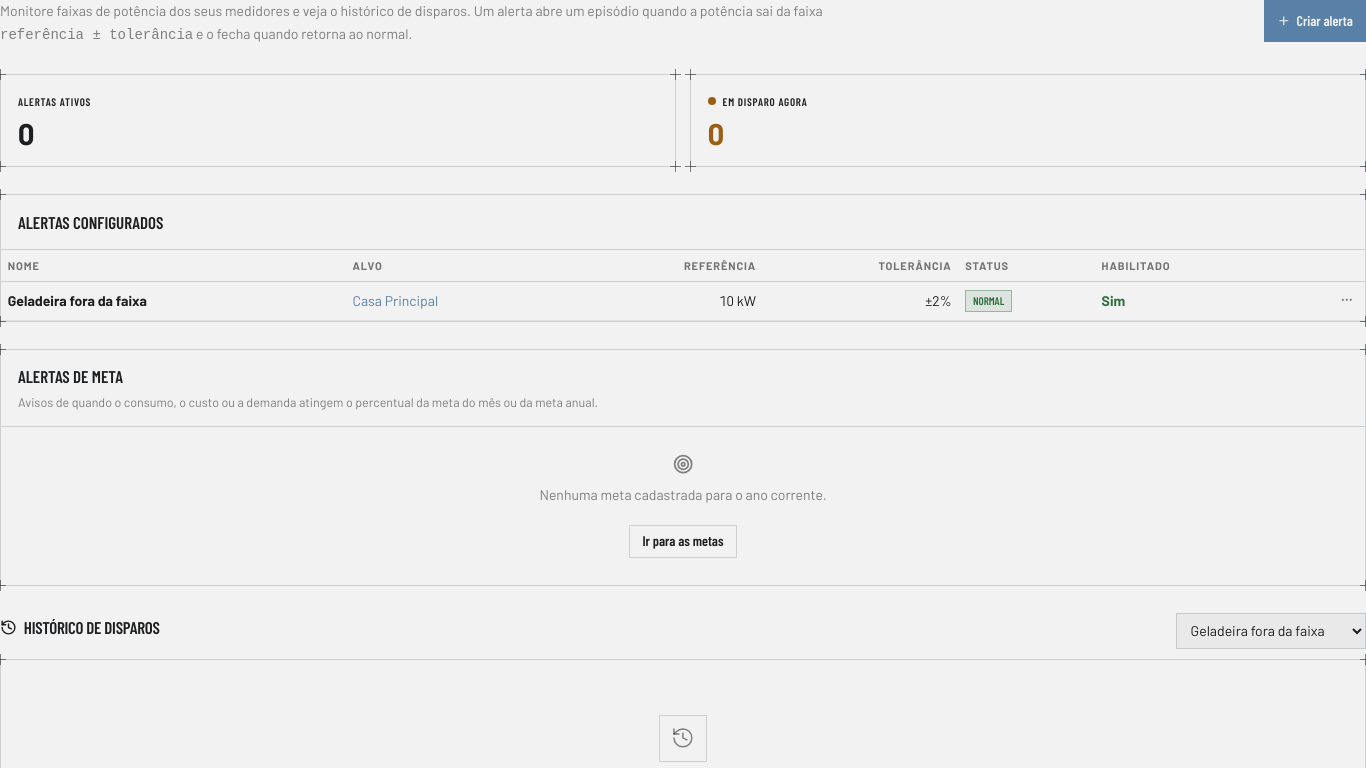
Test case: AlertsPage — editar alerta › abre o dialog de edição pré-preenchido a partir do menu ⋯ da linha
Click the button named "Opções do alerta Geladeira fora da faixa": x=1346, y=300 1334,288 -> 1358,312
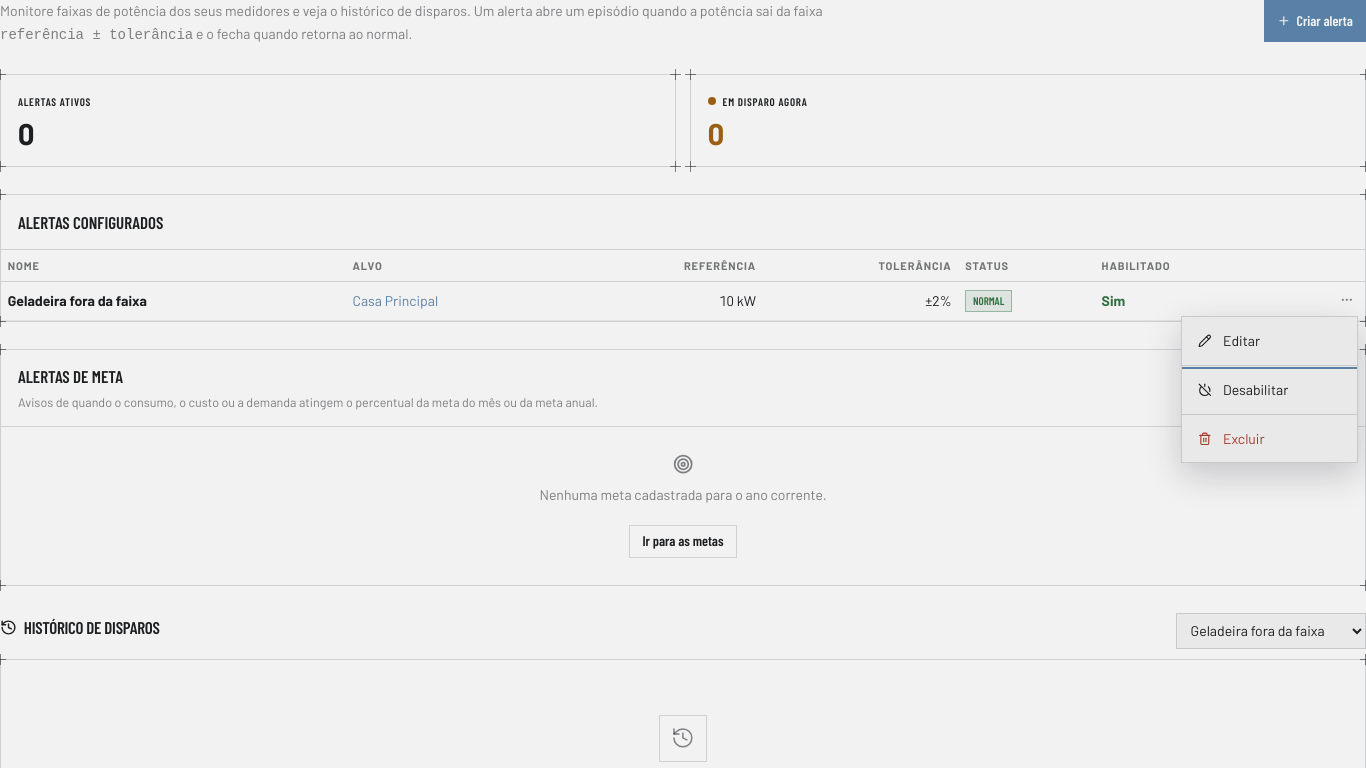
Click the menu item "Editar": x=1270, y=341 1182,317 -> 1357,365
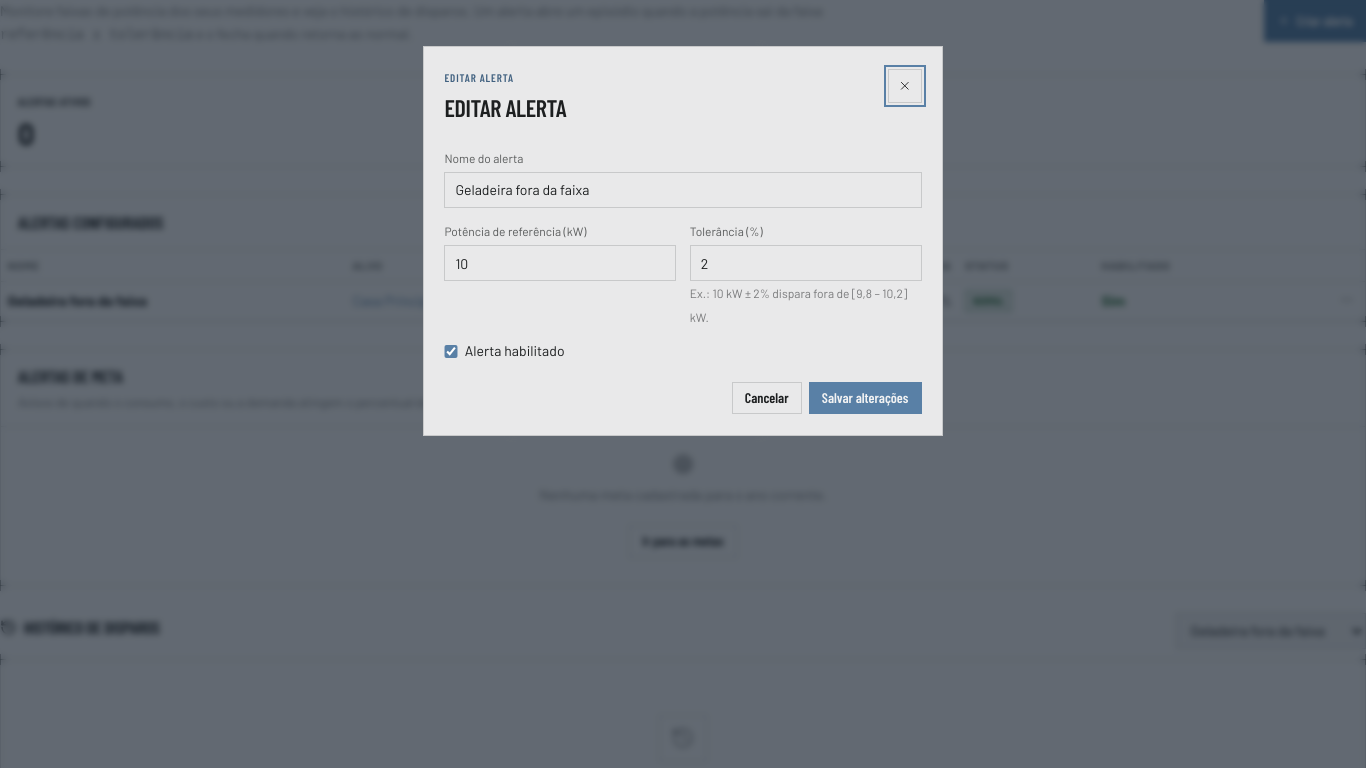
Expected: the heading "Editar alerta" is shown, 444,95 -> 566,120
Expected: the field with test id "alert-form-name" holds "Geladeira fora da faixa", 444,172 -> 922,208
